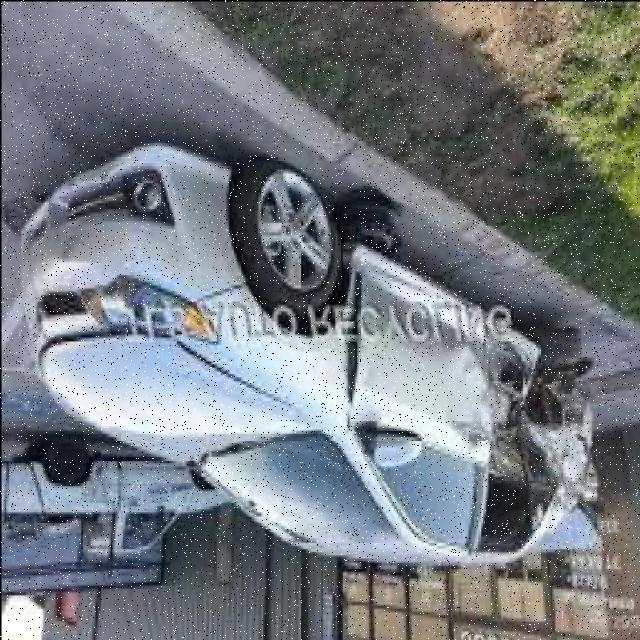damage: (470, 317, 603, 556)
